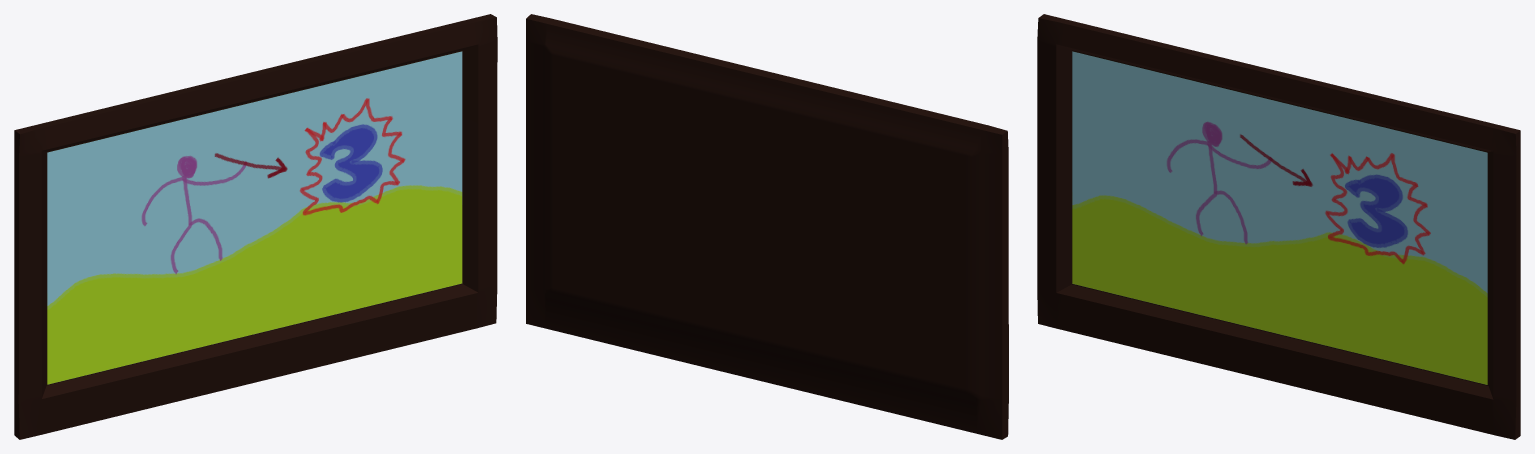
The model's file is painting.FBX.
3 renders of one model, left to right at view 1: azimuth 30°, elevation 25°; view 2: azimuth 150°, elevation 25°; view 3: azimuth 330°, elevation 25°, orthographic.
Visible parts, largest first — view 1: Canvas, Painting; view 2: Painting; view 3: Canvas, Painting.
Boxes of the visible parts, x1,y1,x2,y2 form: Canvas: (47,51,462,384); Painting: (14,14,497,439); Painting: (526,14,1008,439); Canvas: (1072,51,1487,384); Painting: (1037,14,1520,439).
Size of the model in its own units: 49.61 by 30.38 by 1.86.
2 materials, 1 textured.
